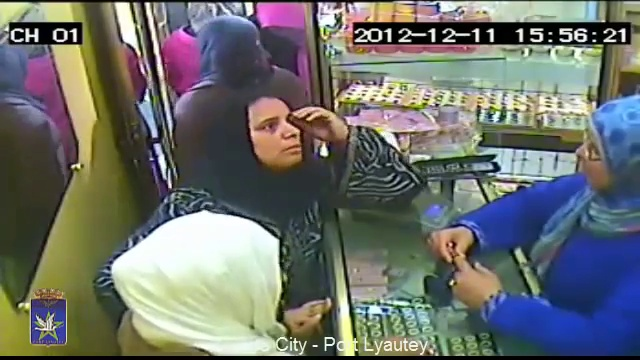face: (246, 111, 302, 171), (572, 127, 616, 188)
